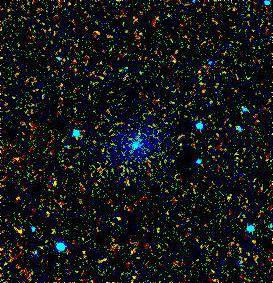star: (7, 216, 37, 246)
